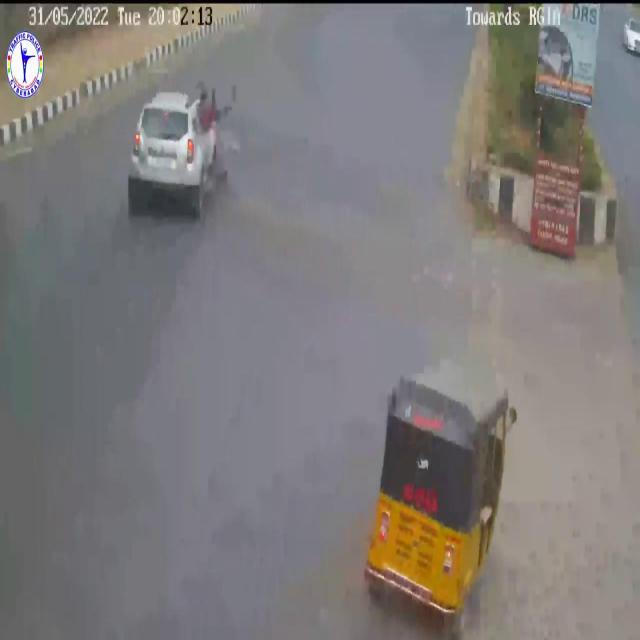accident: (125, 67, 243, 238)
